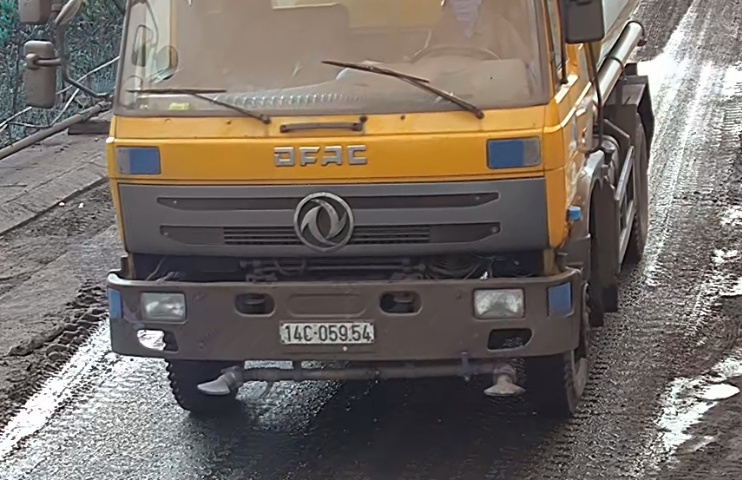vehicle plate: (277, 313, 382, 349)
